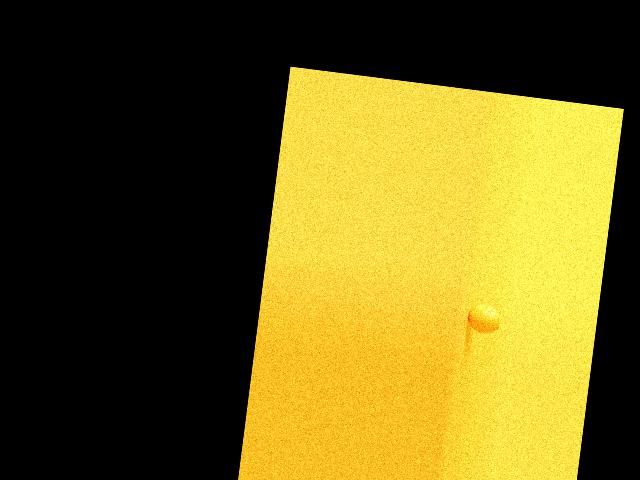lemon: (465, 294, 506, 338)
